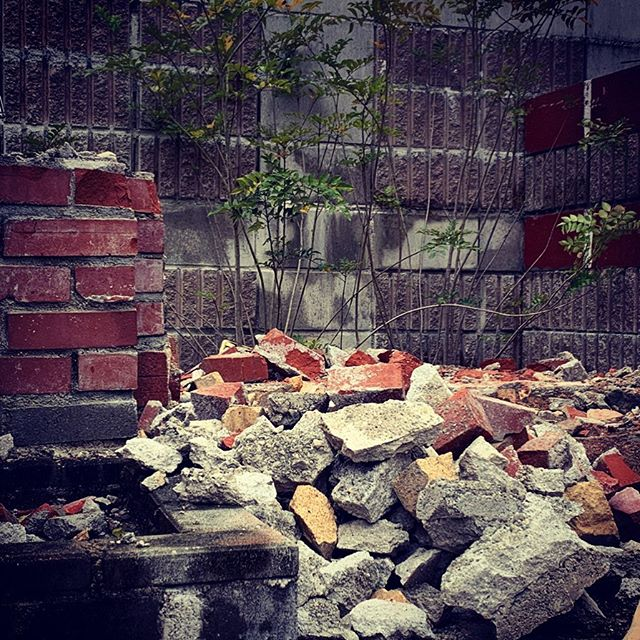debris: (46, 340, 640, 640)
tree: (141, 1, 540, 384)
